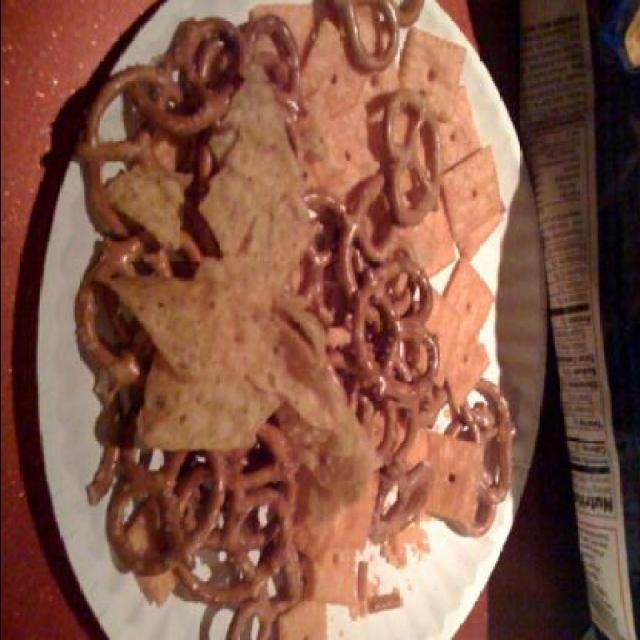Salatini packaged: (66, 11, 514, 640), (330, 1, 428, 76)
